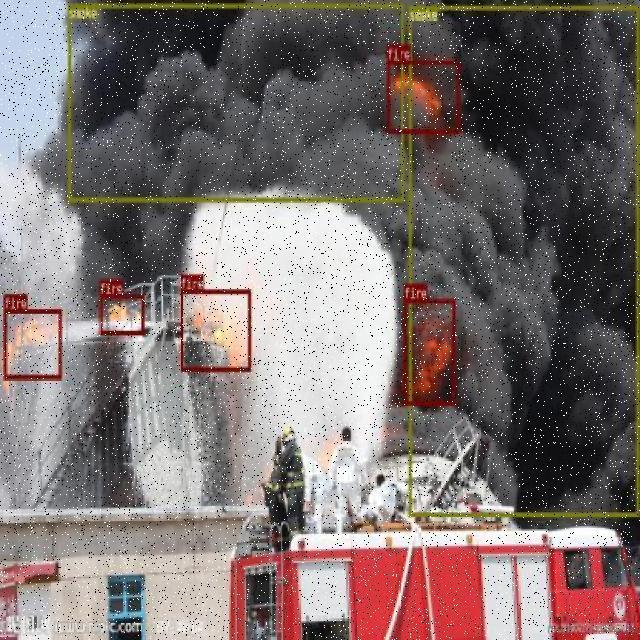Smoke: (408, 5, 638, 516), (71, 3, 400, 202)
